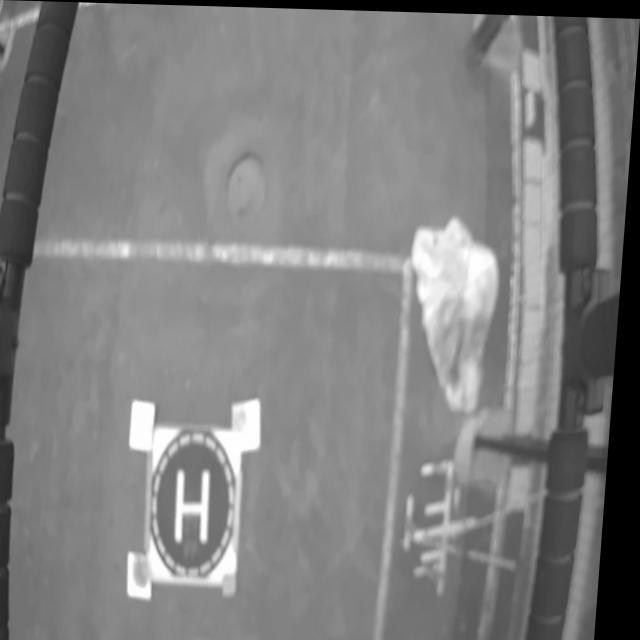Helipad: (182, 469, 219, 542)
